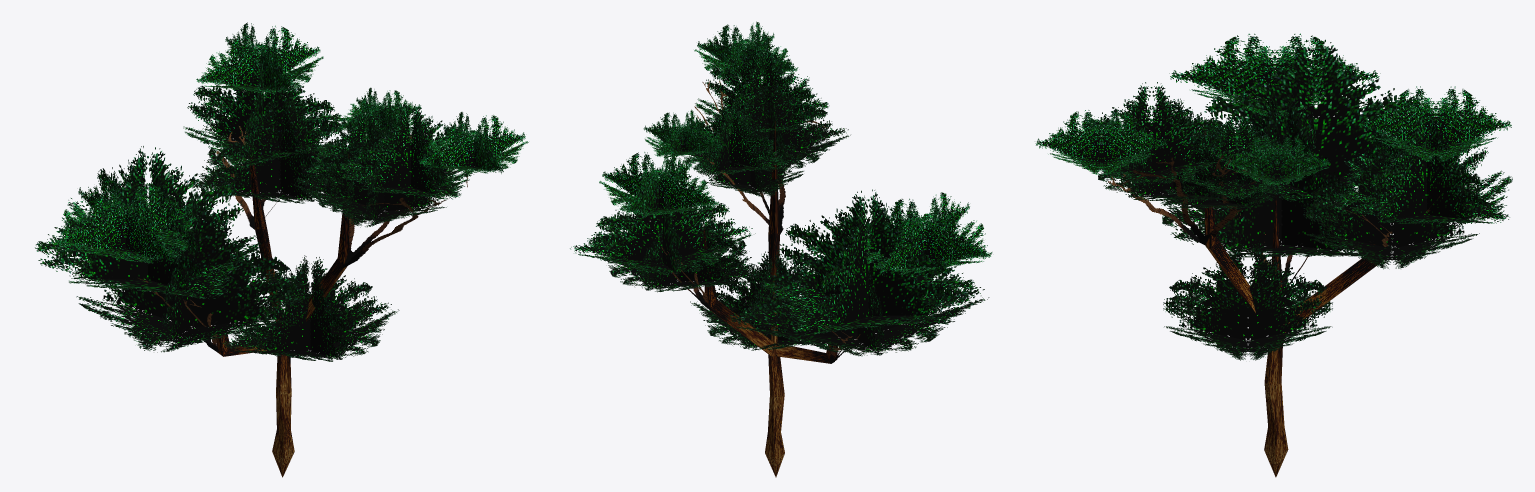
The model's file is groveden_1.fbx.
3 renders of one model, left to right at view 1: azimuth 30°, elevation 25°; view 2: azimuth 150°, elevation 25°; view 3: azimuth 270°, elevation 25°, orthographic. The views are drawn at different scales.
Visible parts, largest first — view 1: groveden_1; view 2: groveden_1; view 3: groveden_1.
Part boxes in pixels (x1,y1,x2,y2): groveden_1: (35, 22, 528, 477); groveden_1: (570, 21, 992, 477); groveden_1: (1035, 33, 1512, 477).
Size of the model in its own units: 610 by 563 by 568.
